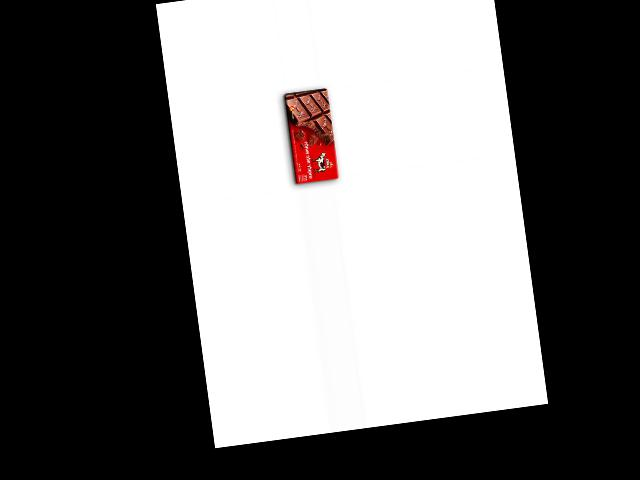chocolate: (280, 86, 341, 187)
